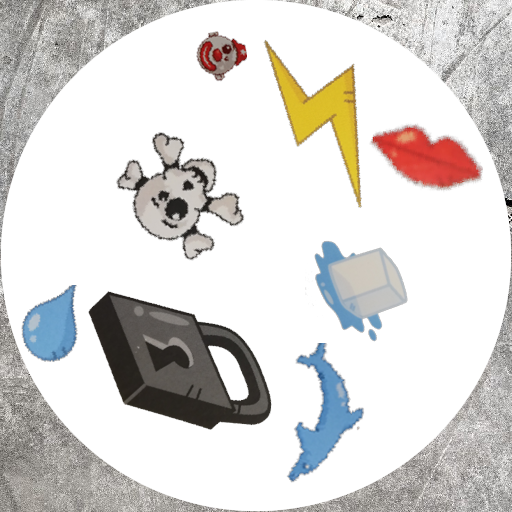clown_icon: (196, 31, 247, 82)
cube_icon: (305, 222, 427, 344)
dolphin_icon: (248, 343, 390, 485)
lightning_icon: (230, 31, 412, 213)
lips_icon: (366, 105, 483, 222)
lock_icon: (82, 262, 275, 455)
raindrop_icon: (15, 285, 94, 364)
skull_icon: (103, 123, 248, 268)
